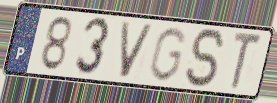3: (72, 16, 114, 78)
8: (40, 14, 74, 72)
G: (146, 25, 188, 84)
S: (184, 27, 228, 91)
T: (229, 30, 264, 92)
V: (119, 19, 157, 80)
